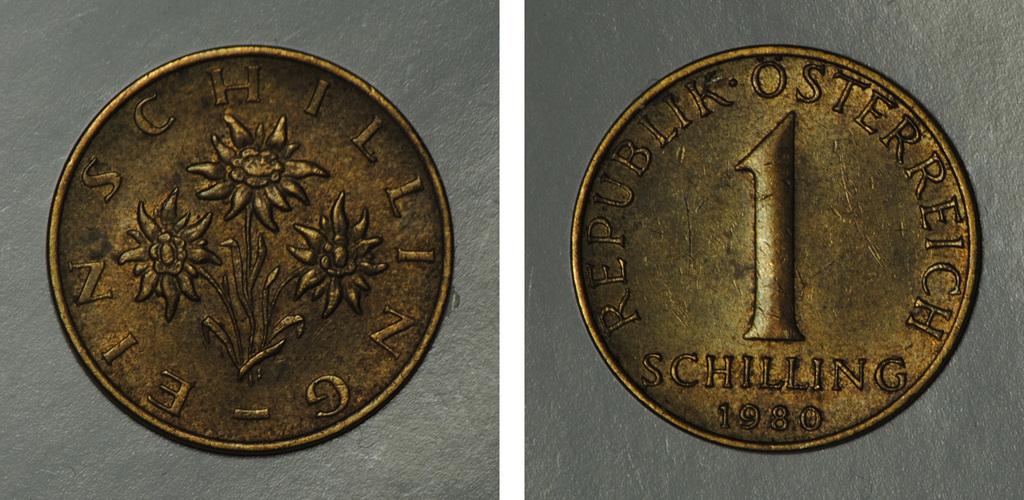Coin: (569, 44, 982, 453), (46, 45, 453, 455)
